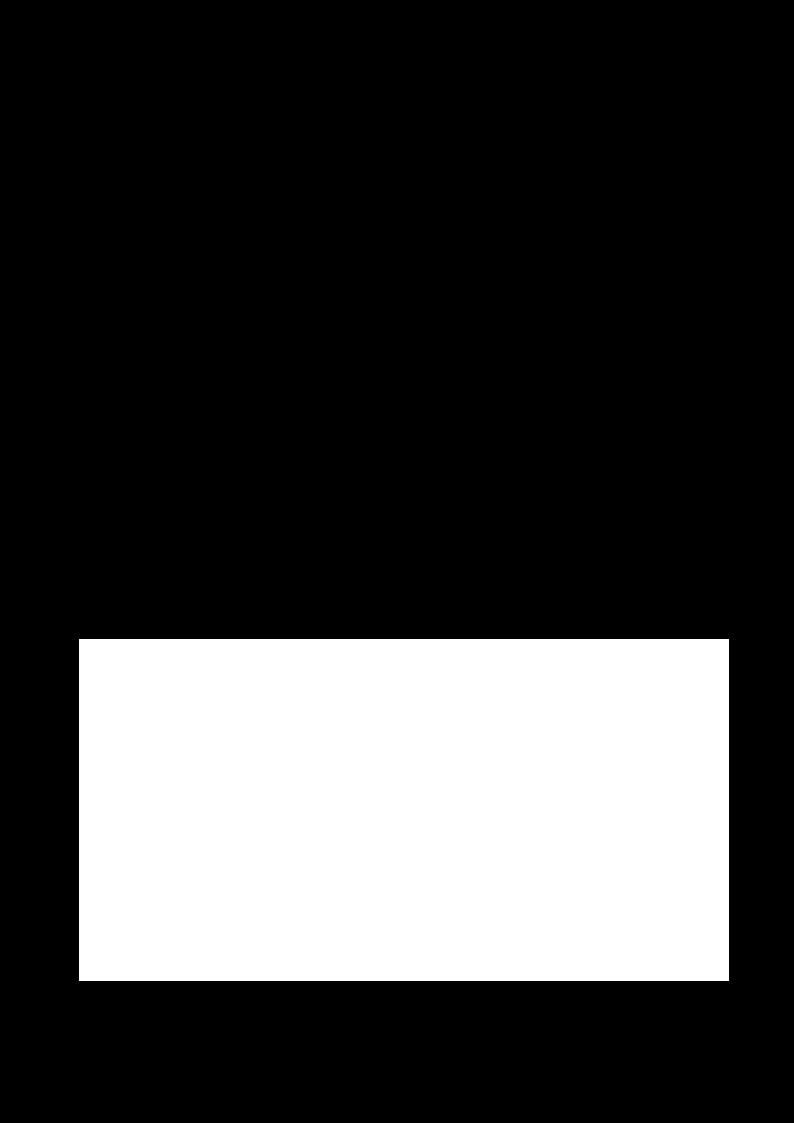table: (79, 639, 728, 980)
